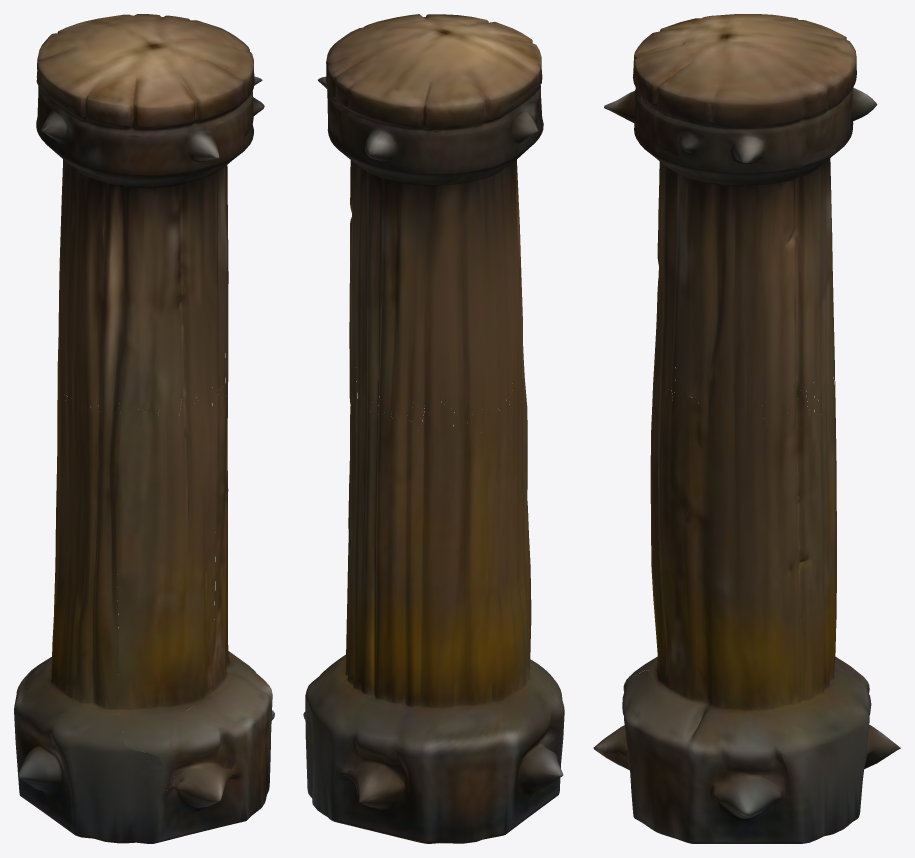
The model's file is arena-wooden-pillar.glb.
The picture shows the model from 3 angles, left to right: view 1: azimuth 30°, elevation 25°; view 2: azimuth 150°, elevation 25°; view 3: azimuth 270°, elevation 25°; orthographic projection.
Parts seen in each view (by area): view 1: GF_Wooden_Pillar; view 2: GF_Wooden_Pillar; view 3: GF_Wooden_Pillar.
Boxes of the visible parts, box(x1,y1,x2,y2) form: GF_Wooden_Pillar: box(14, 14, 274, 843); GF_Wooden_Pillar: box(303, 14, 564, 843); GF_Wooden_Pillar: box(593, 14, 900, 843).
Size of the model in its own units: 0.0785 by 0.2193 by 0.0804.
Materials: 1 (1 with a texture image).
